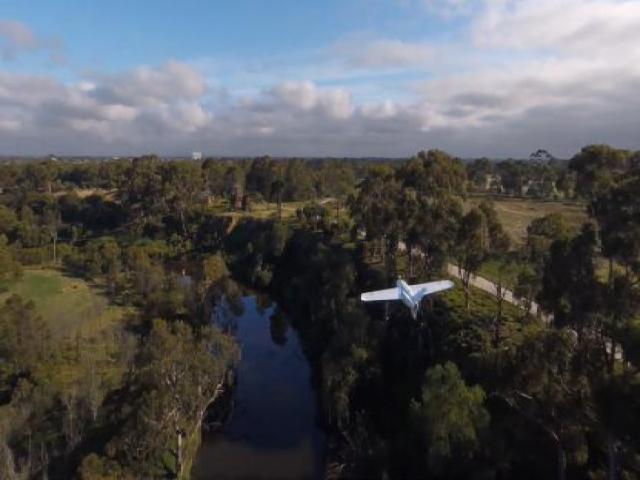uav: (358, 275, 456, 322)
